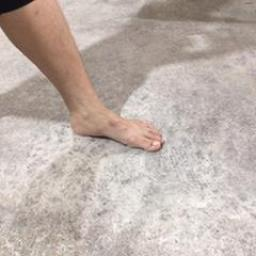Medial View -Left Foot-: (56, 84, 170, 162)
